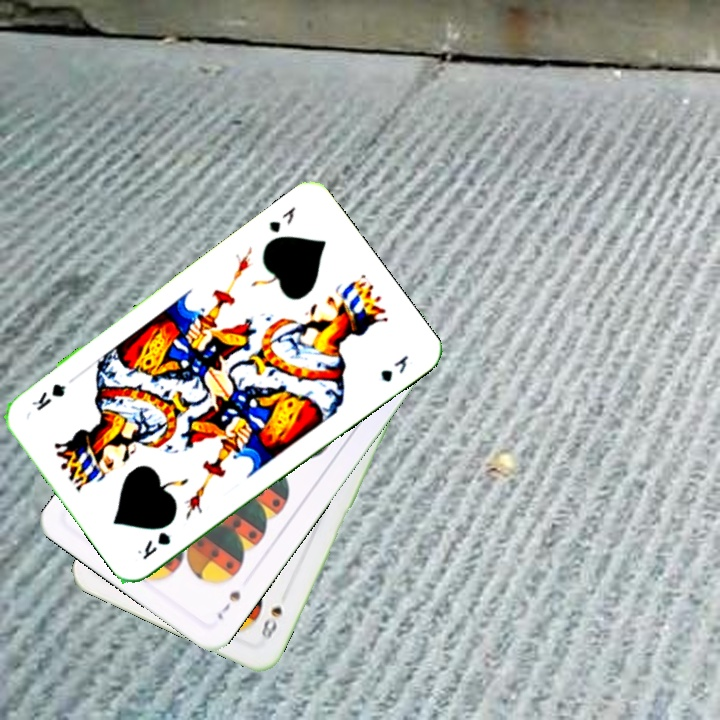GK: (133, 528, 174, 562), (264, 202, 299, 236)
S7: (213, 587, 244, 623)
S8: (257, 602, 285, 642)
